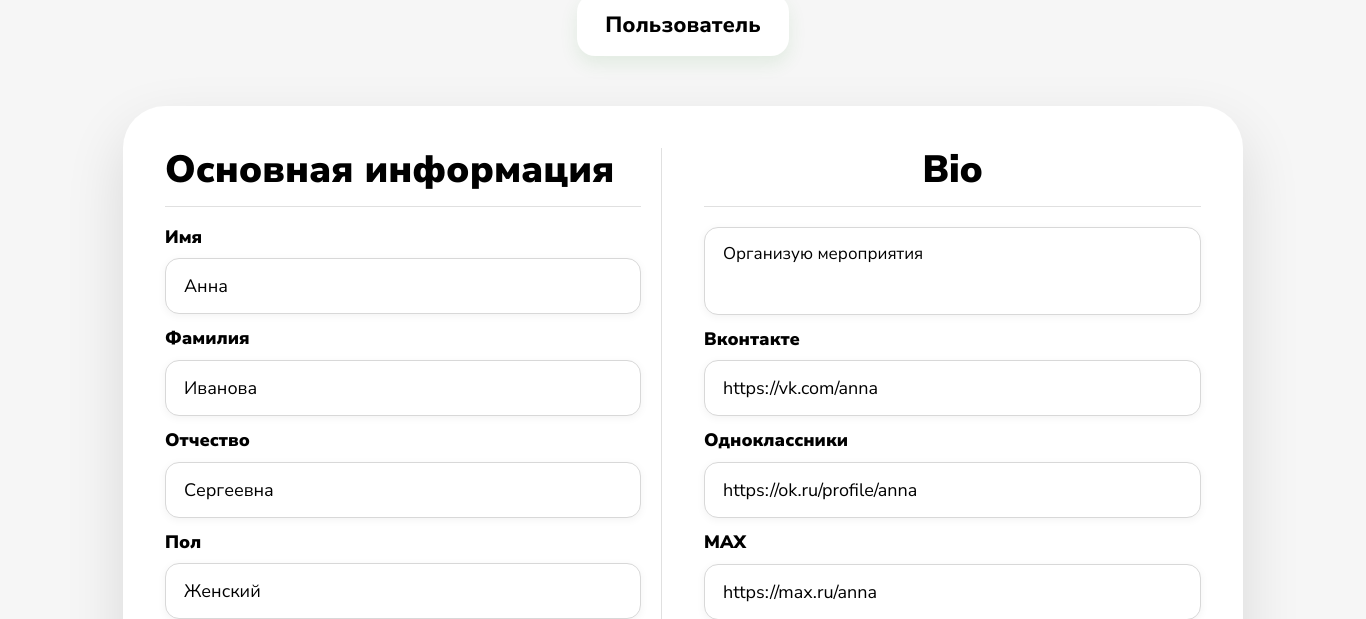
it: ProfileSettings › shows top-level validation message for invalid form
This screenshot has width=1366, height=619.
(page scrolled)
Step 1. Clear the field labelled "Имя" → (403, 286), box [165,258,641,314]
(page scrolled)
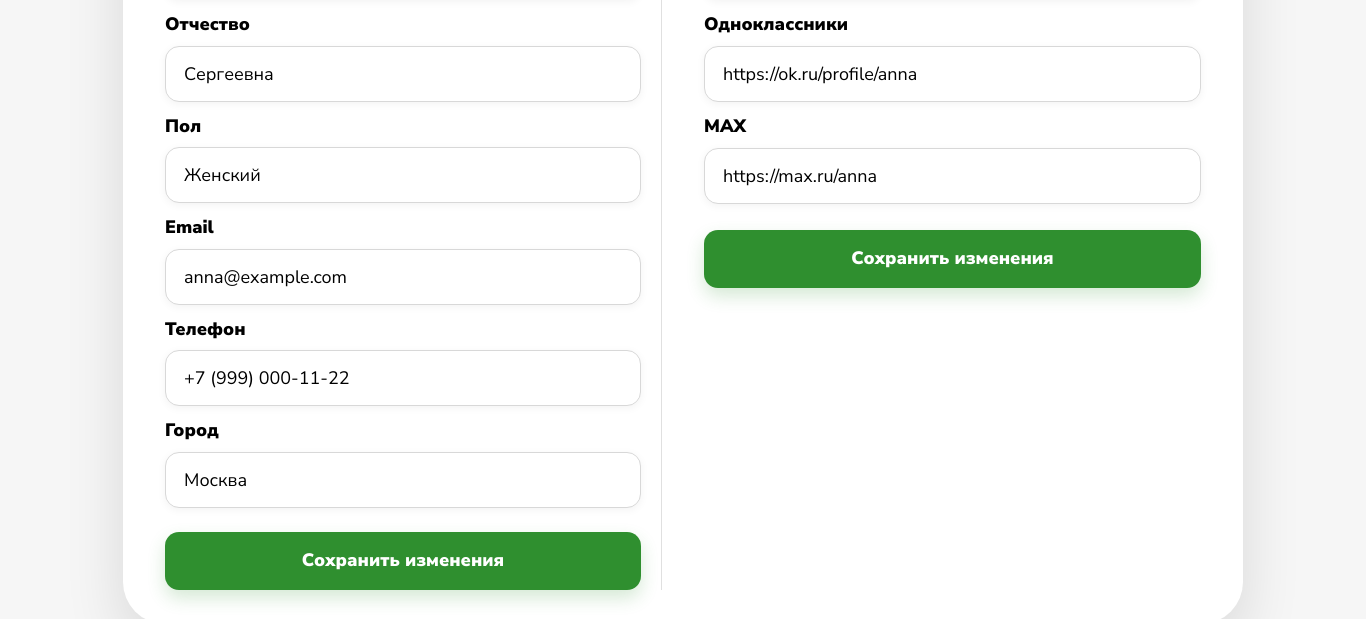
Step 2. Click the button "Сохранить изменения" below "Город" → click(403, 561), box [165,532,641,590]
(page scrolled)
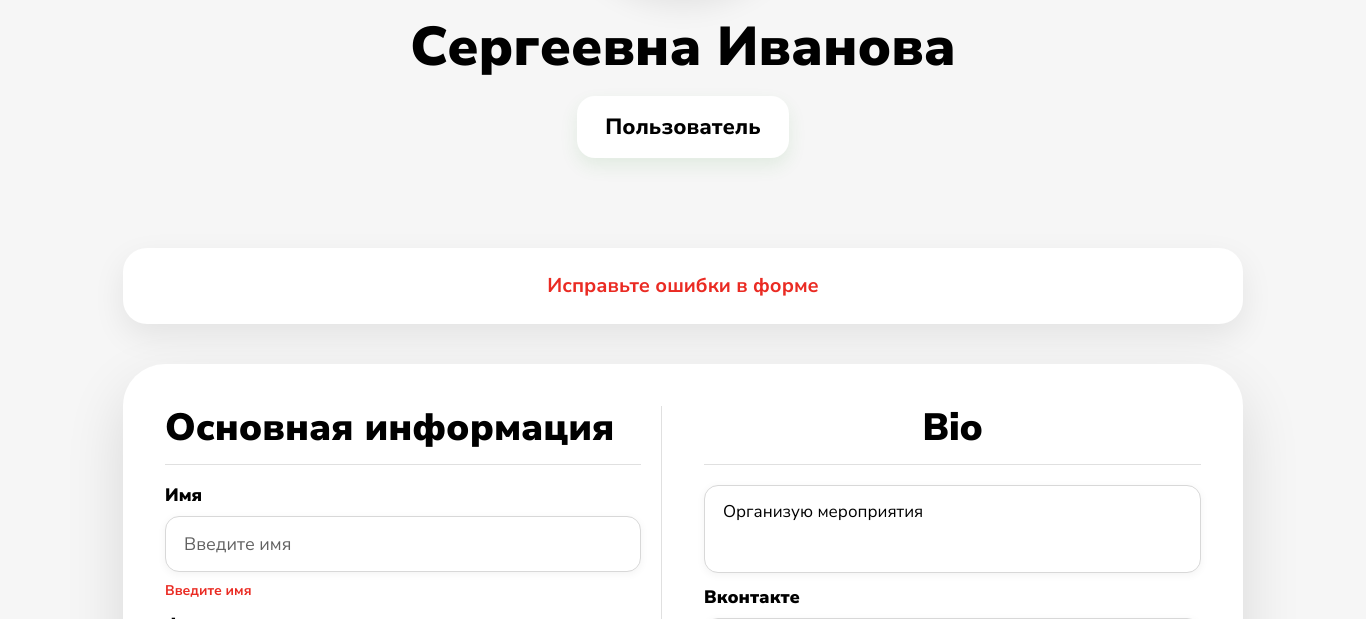
Expected: the text "Исправьте ошибки в форме" is shown, [123,248,1243,324]
